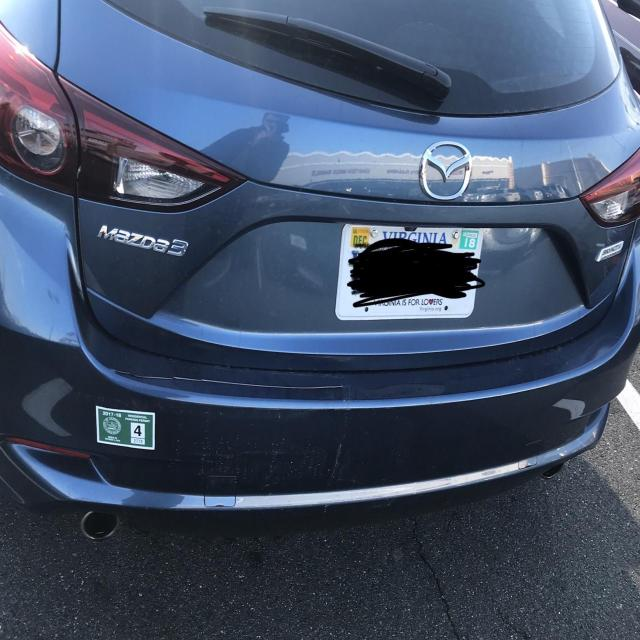tear: (112, 371, 344, 390)
